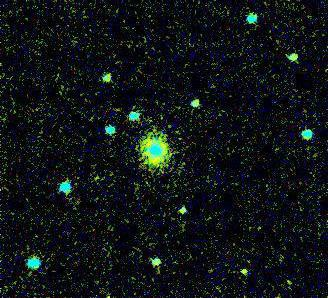star: (230, 264, 260, 294)
